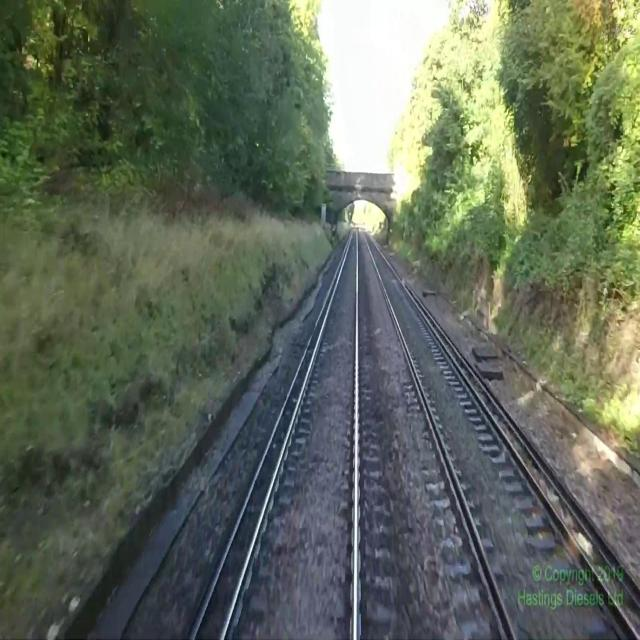rail-track: (363, 232, 621, 639), (223, 227, 357, 639)
